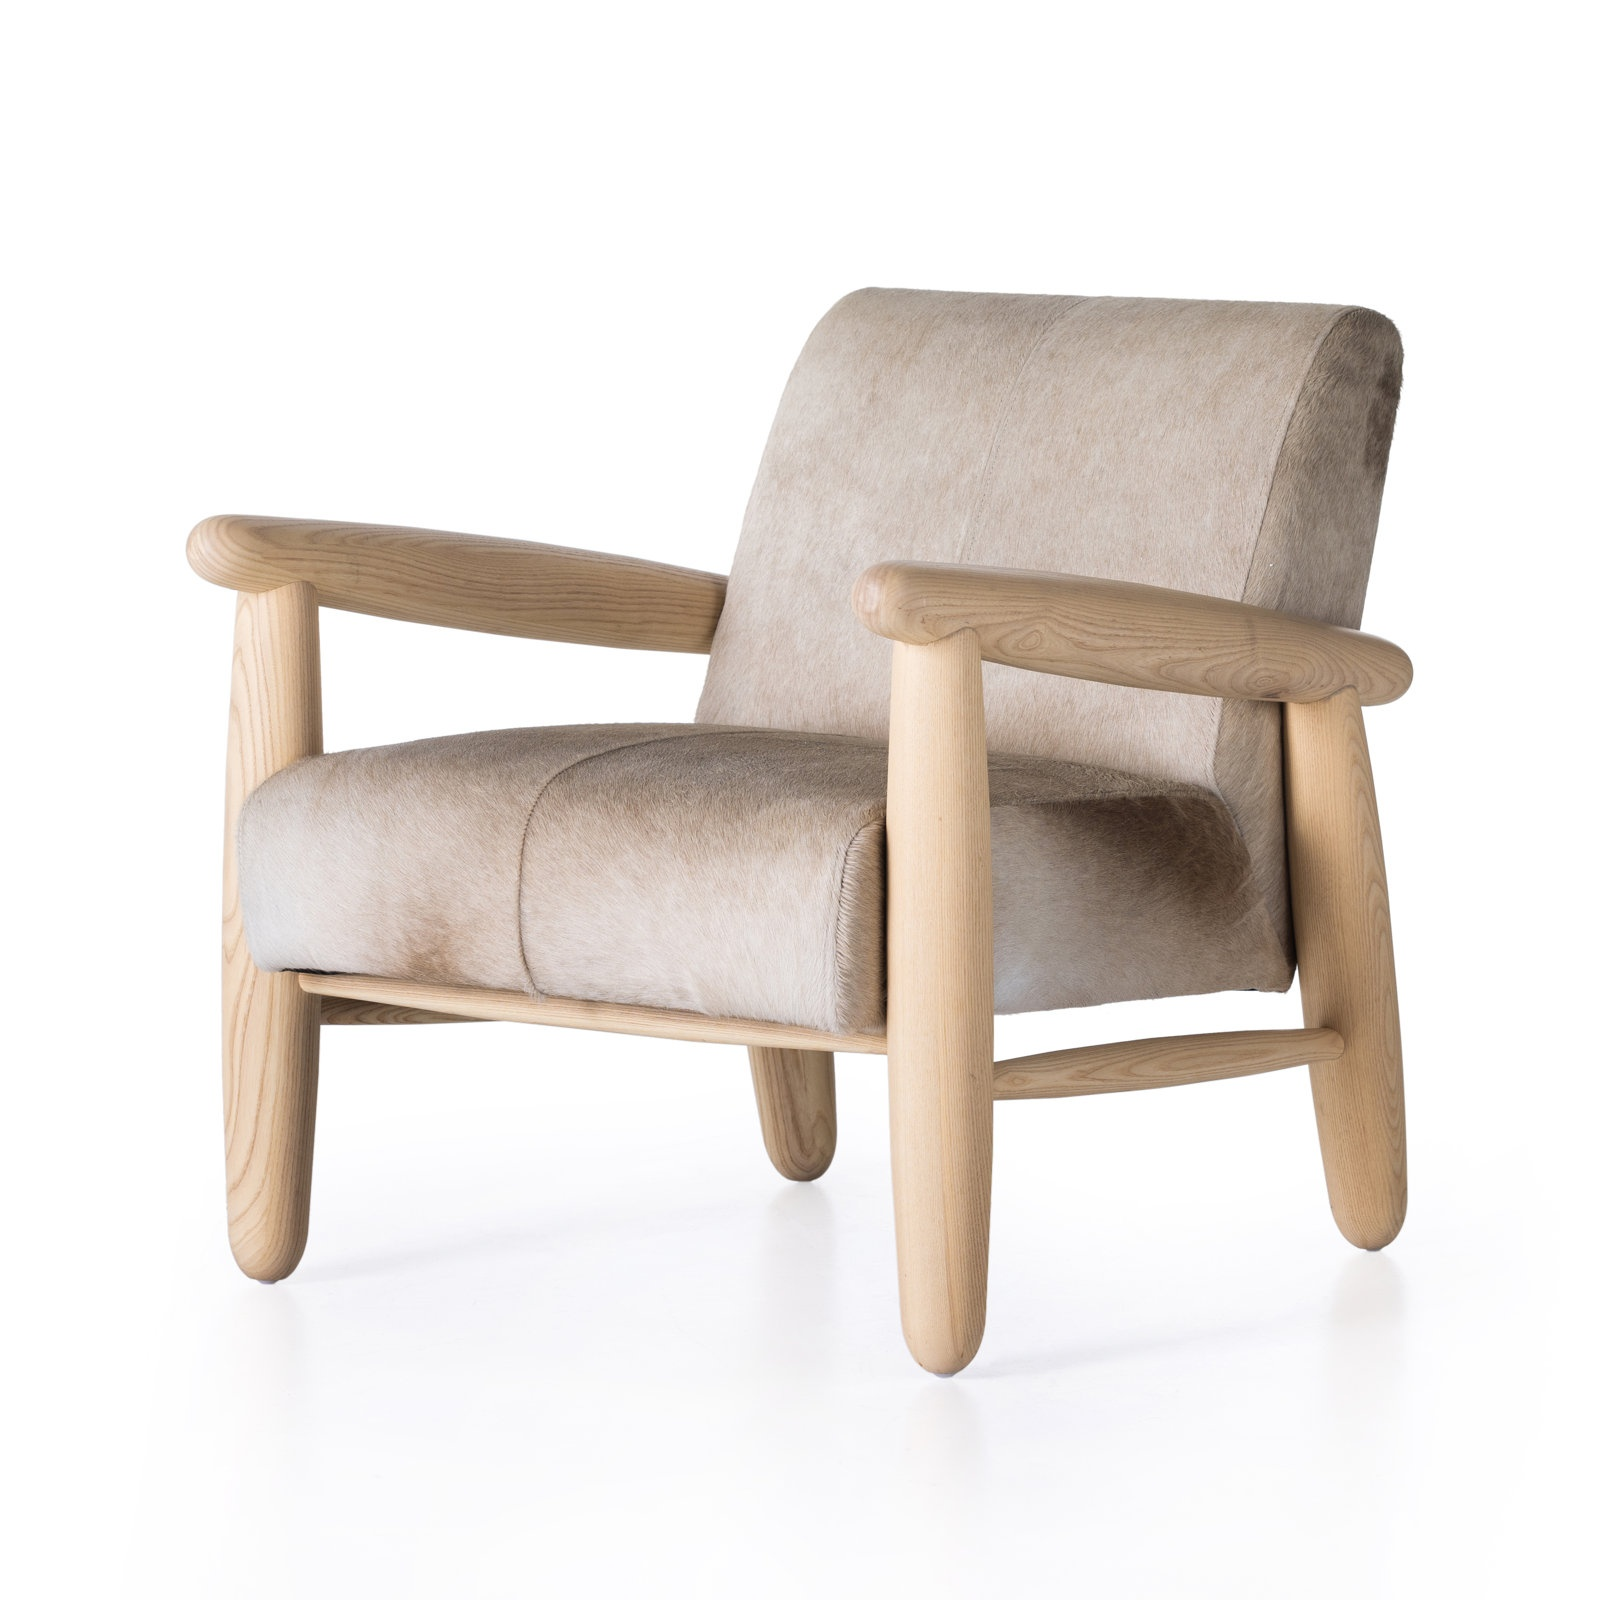obstacle: (188, 289, 1410, 1371)
